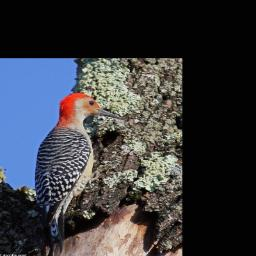Woodpecker: (33, 91, 120, 252)
